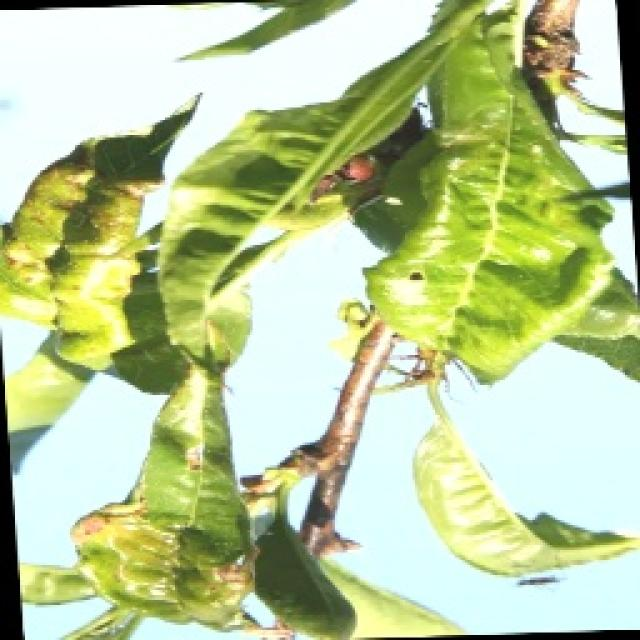peach_leaf_curl: (358, 0, 618, 385)
